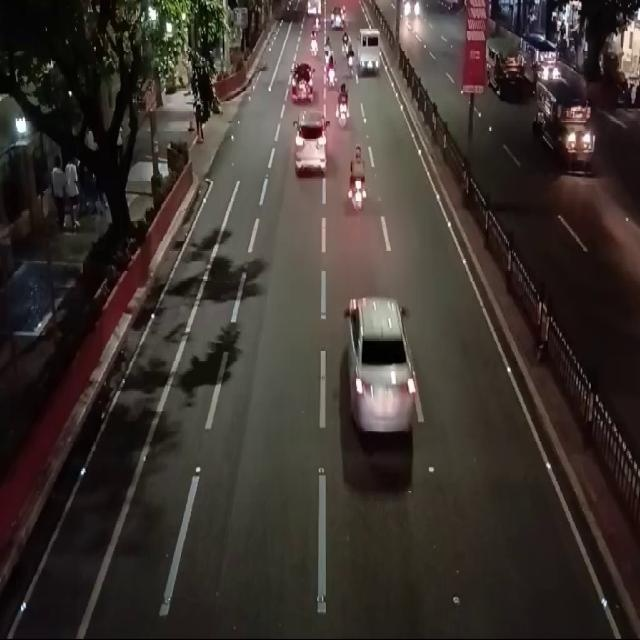car: (341, 284, 413, 434), (292, 112, 327, 184), (356, 28, 381, 78), (290, 59, 314, 106)
jeepney: (538, 70, 590, 180), (484, 37, 524, 102), (522, 35, 563, 86)
motorcycle: (348, 146, 368, 220), (336, 80, 348, 132), (342, 30, 354, 76), (326, 46, 337, 86), (324, 33, 329, 68)
